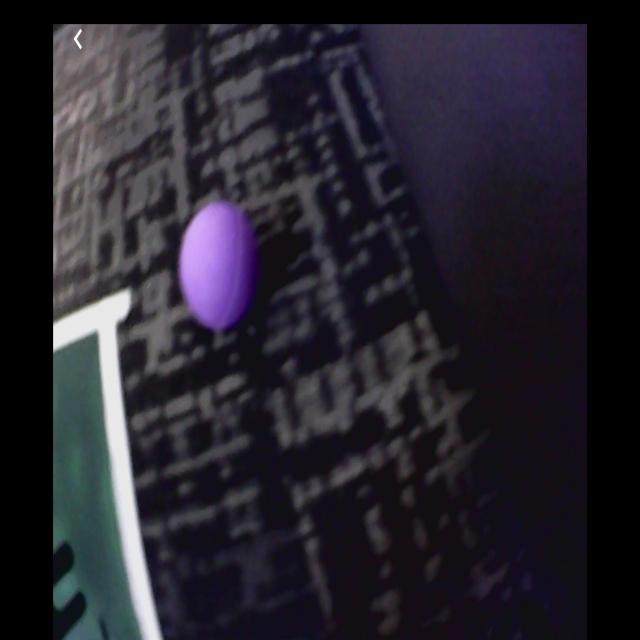ball: (180, 203, 257, 332)
